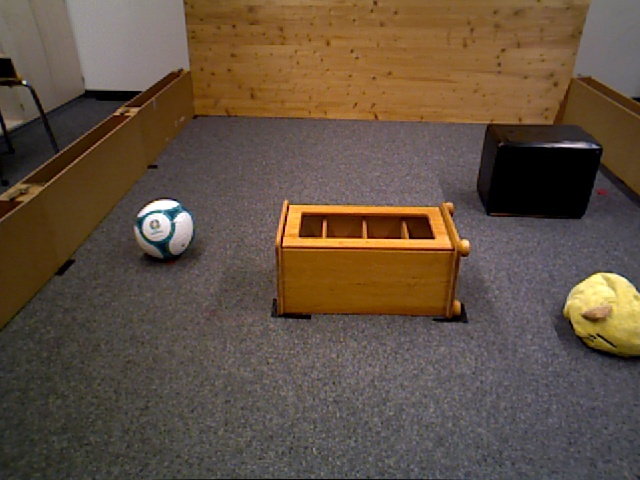grasp: (564, 272, 640, 357)
kick: (134, 198, 195, 261)
push: (481, 124, 602, 221)
